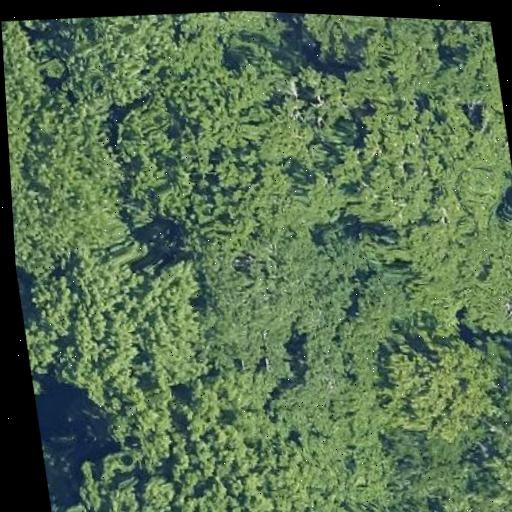tree-top: (342, 89, 512, 233), (7, 115, 132, 283), (363, 324, 512, 456), (181, 394, 334, 512), (40, 293, 162, 432), (193, 258, 309, 391), (181, 155, 290, 272), (51, 11, 170, 118), (167, 40, 267, 166), (317, 221, 424, 336), (241, 70, 356, 175), (126, 260, 217, 390), (391, 17, 502, 104), (101, 93, 187, 187), (284, 55, 366, 153), (61, 453, 194, 512), (1, 18, 57, 155), (295, 13, 411, 68), (389, 432, 463, 512), (112, 177, 191, 241), (22, 304, 62, 417), (189, 8, 294, 47), (36, 405, 72, 512), (465, 439, 512, 512), (492, 345, 512, 436), (493, 187, 512, 280), (347, 500, 419, 512)
